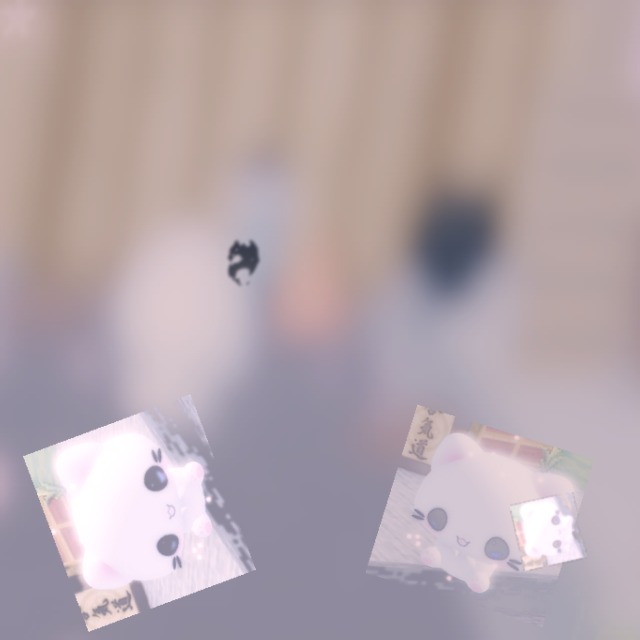urso_branco: (23, 394, 256, 632), (365, 404, 595, 628), (510, 492, 587, 571)
urso_preto: (213, 227, 273, 297)
